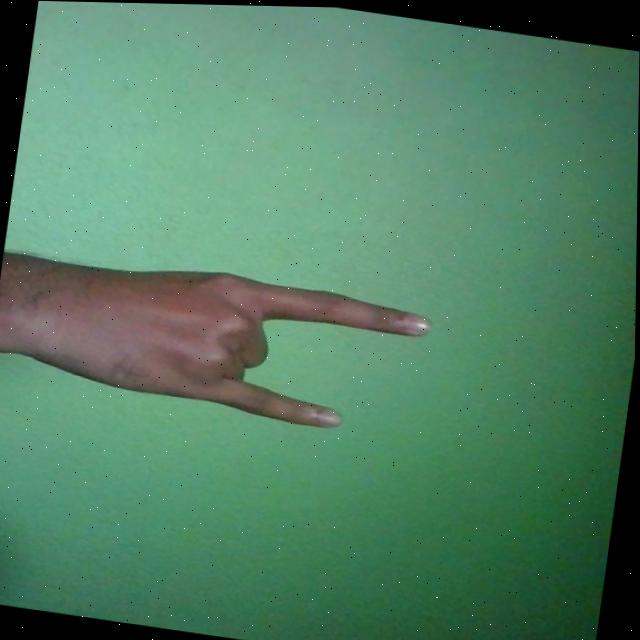Rock On: (0, 242, 435, 439)
